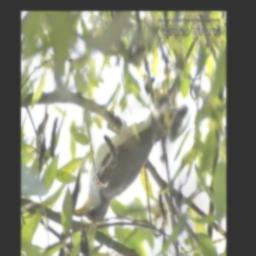Cuckoo: (71, 35, 197, 225)
